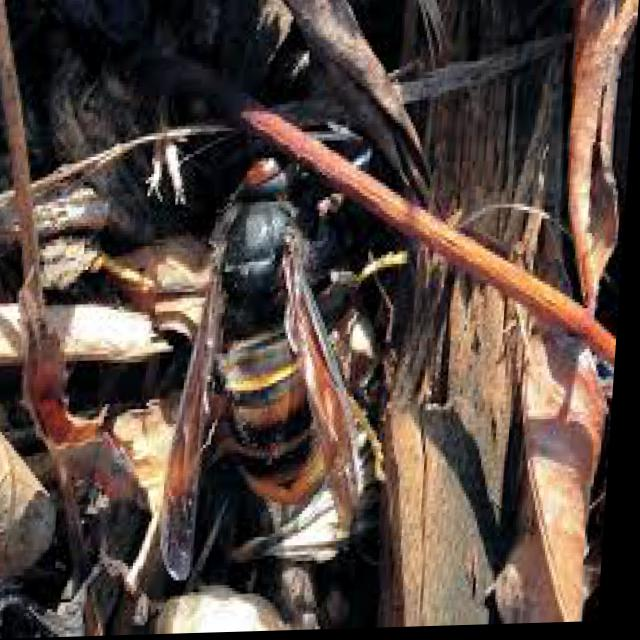Vespa Velutina: (131, 100, 419, 597)
